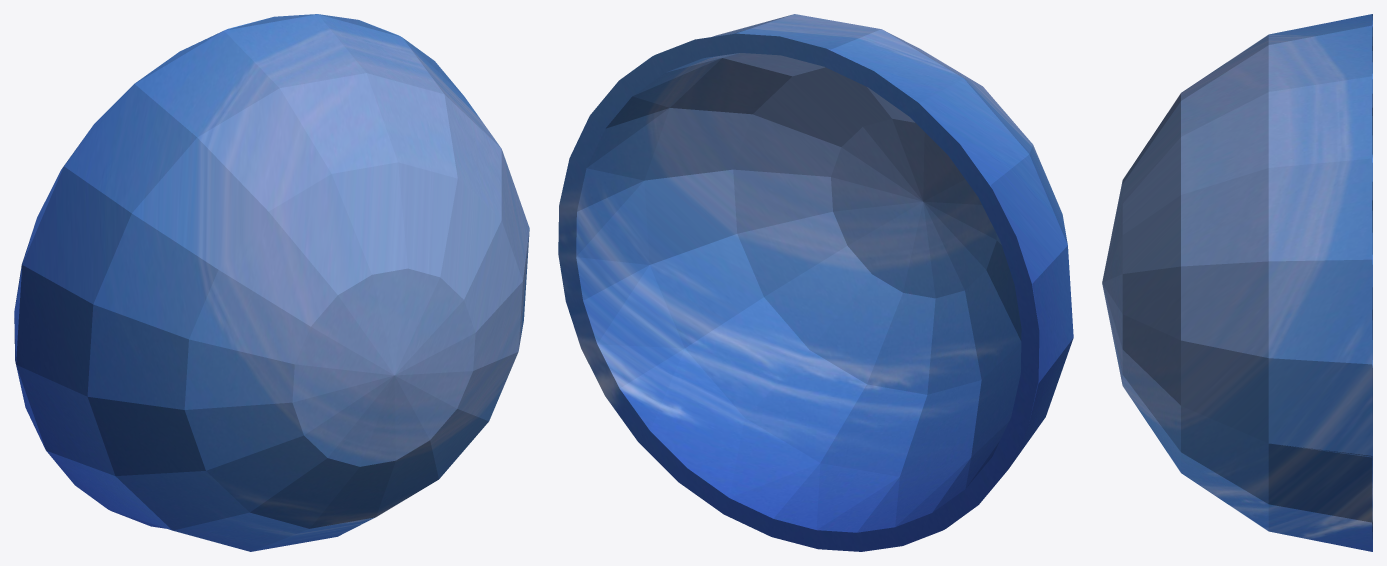
The model's file is cielo (color).dae.
3 views of the same model, side by side, from view 1: azimuth 30°, elevation 25°; view 2: azimuth 150°, elevation 25°; view 3: azimuth 270°, elevation 25° (orthographic). The views are drawn at different scales.
Parts seen in each view (by area): view 1: node; view 2: node; view 3: node.
Boxes of the visible parts, x1,y1,x2,y2 form: node: (14,14,529,551); node: (558,14,1073,551); node: (1102,14,1372,551).
Bounding box in the file's own units: 25809 × 25809 × 12985.
1 material, 1 textured.
